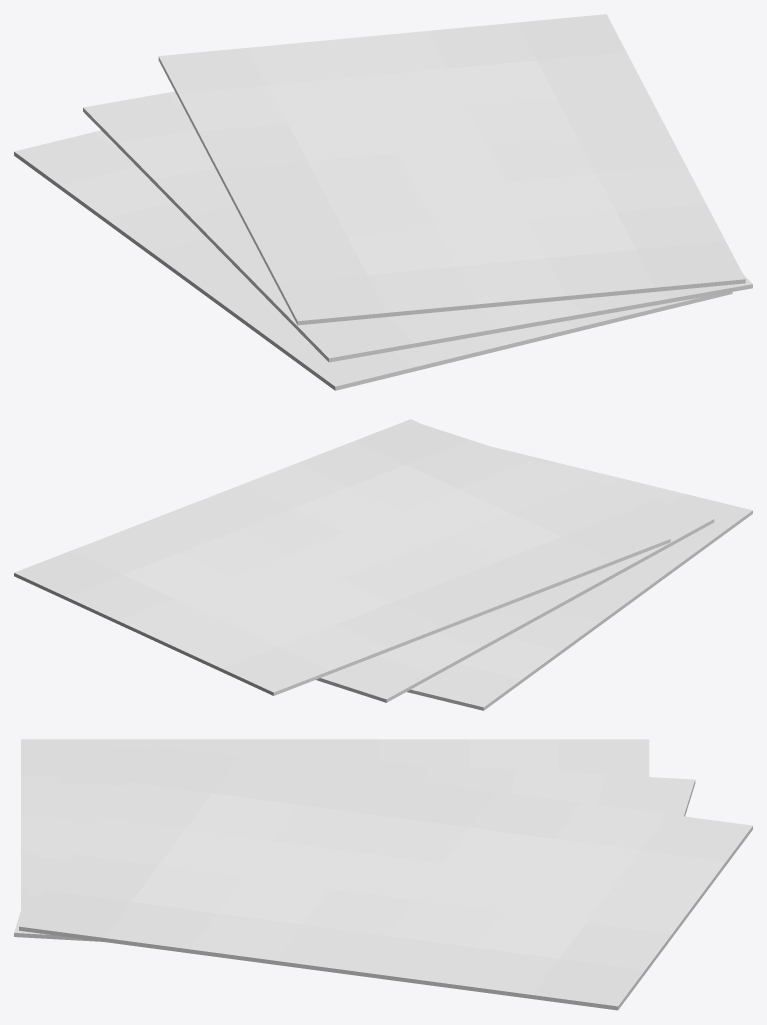
File: papers.glb
3 views of the same model, one above another, from view 1: azimuth 30°, elevation 25°; view 2: azimuth 150°, elevation 25°; view 3: azimuth 270°, elevation 25° (orthographic). The views are drawn at different scales.
Parts seen in each view (by area): view 1: cube (×3); view 2: cube (×3); view 3: cube (×3).
Part boxes in pixels (x1,y1,x2,y2): cube (×3): (14,14,752,390); cube (×3): (14,419,752,710); cube (×3): (14,739,752,1010).
Size of the model in its own units: 0.4534 by 0.00937 by 0.5147.
Materials: 1 (1 with a texture image).
